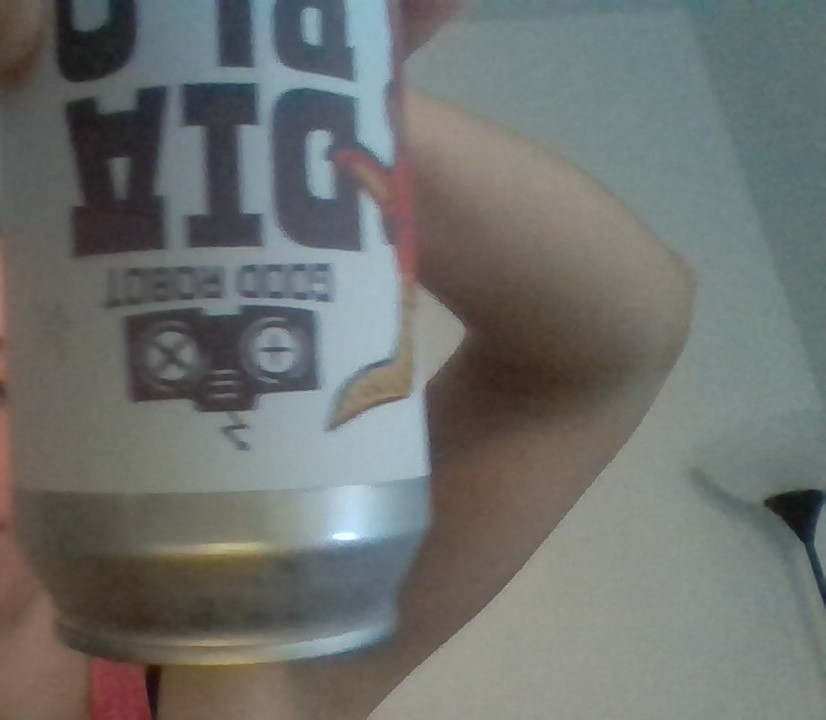Good Robot: (114, 304, 330, 456)
